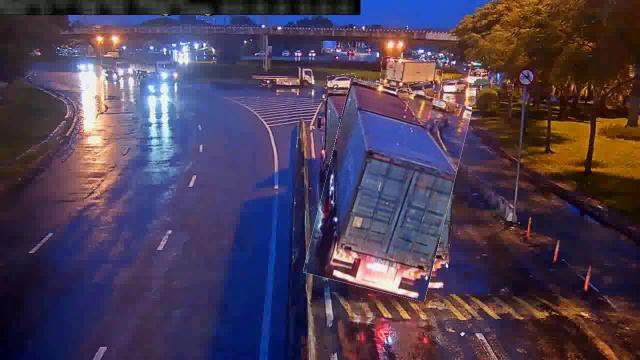Car: (410, 82, 434, 99), (328, 75, 357, 87), (442, 80, 466, 92)
Truck: (314, 84, 462, 296), (381, 58, 443, 90)
